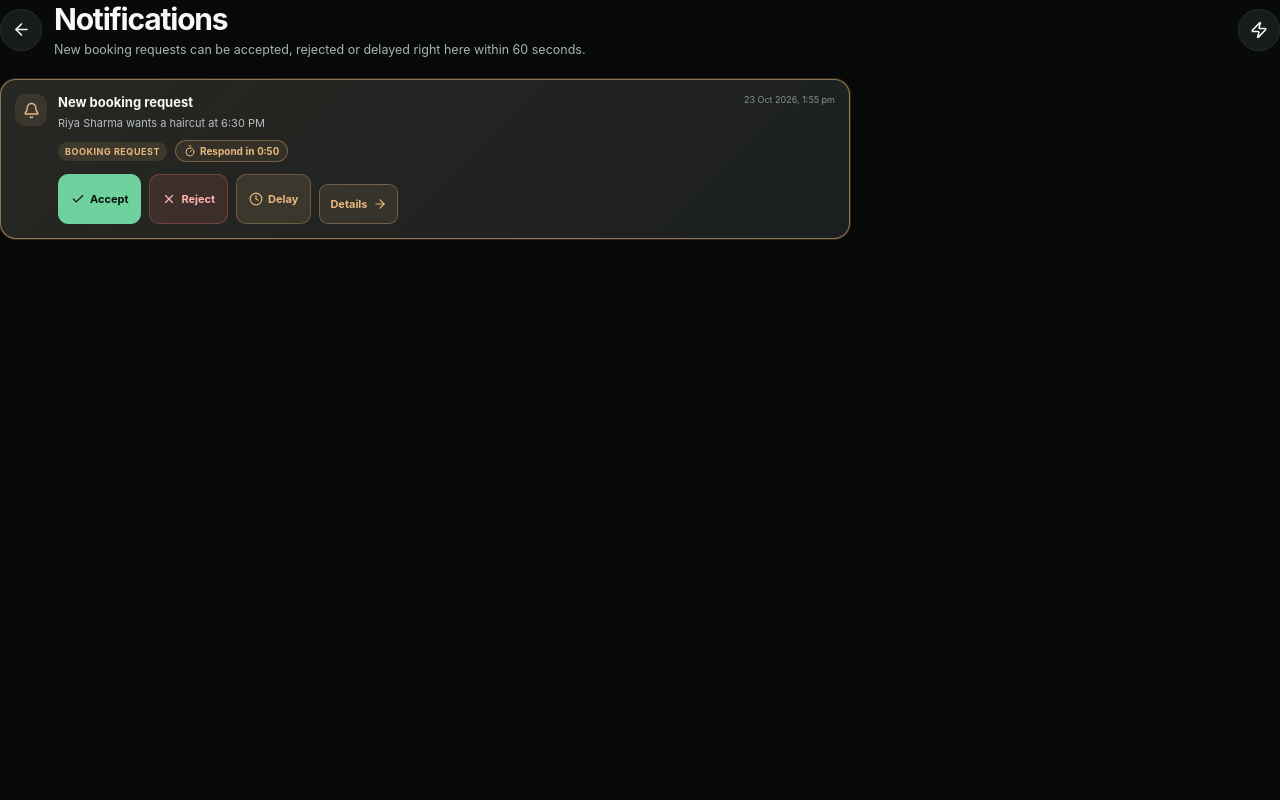
salon Notifications tab — booking request actions › sends the delay from the 20 / 40 / 60 minute picker
Click the button "Delay".
click(274, 199)  # box [236, 174, 311, 224]
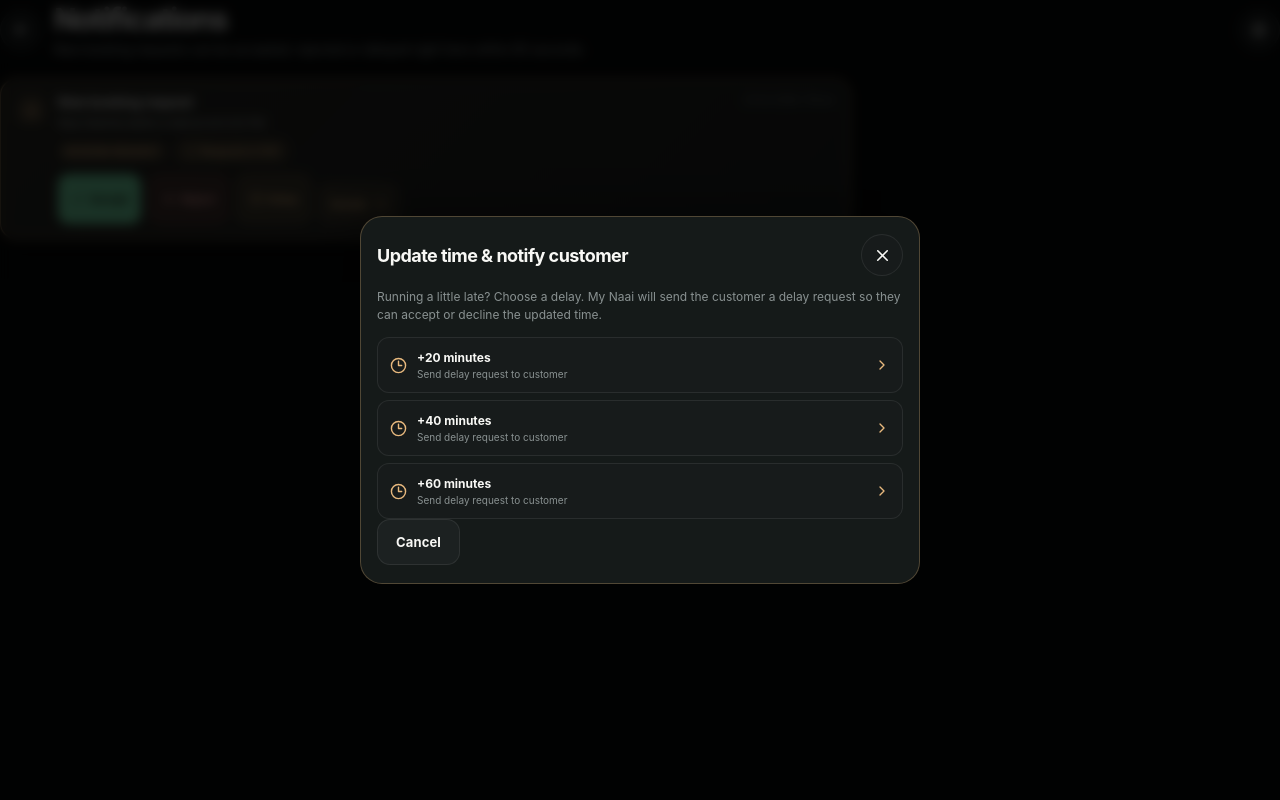
Result: the button "+40 minutes Send delay request to customer" is shown
Click the button "+40 minutes Send delay request to customer".
click(466, 420)  # box [377, 400, 903, 456]
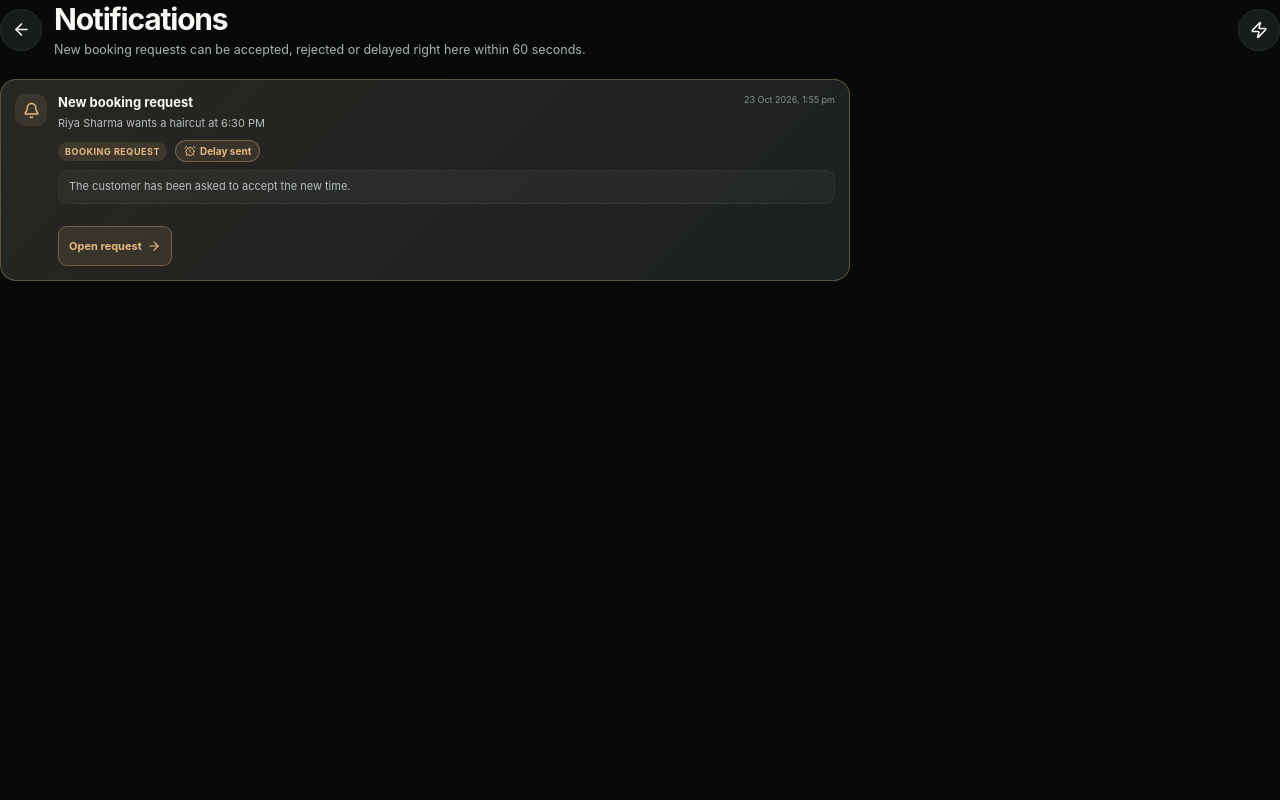
Result: the text "Delay sent" is shown at [175, 140, 260, 162]
